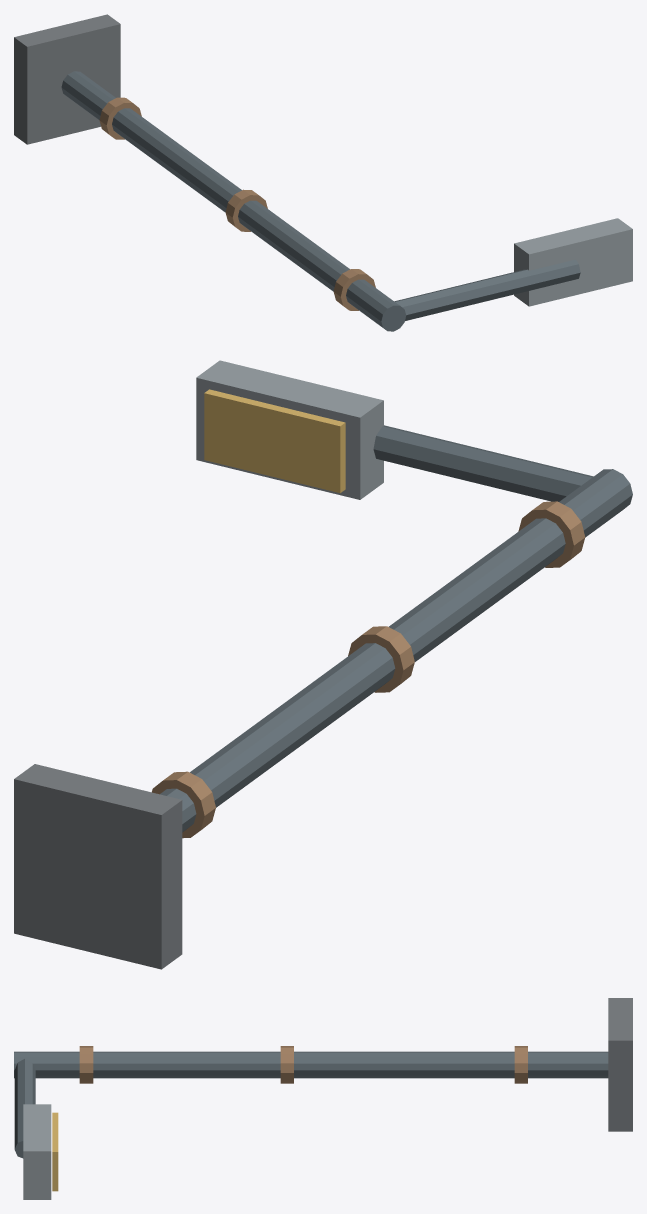
Rendered from powerquest_streetlight.glb.
3 renders of one model, top to bottom at view 1: azimuth 30°, elevation 25°; view 2: azimuth 150°, elevation 25°; view 3: azimuth 270°, elevation 25°, orthographic. The views are drawn at different scales.
Visible parts, largest first — view 1: streetlight_001, streetlight_000, streetlight_003, streetlight_002, streetlight_005, streetlight_006, streetlight_007; view 2: streetlight_000, streetlight_001, streetlight_004, streetlight_003, streetlight_002, streetlight_006, streetlight_007, streetlight_005; view 3: streetlight_001, streetlight_000, streetlight_003, streetlight_002, streetlight_007, streetlight_004, streetlight_005, streetlight_006.
Part boxes in pixels (x1,y1,x2,y2): streetlight_001: (61,71,406,331); streetlight_000: (14,14,120,144); streetlight_003: (514,218,632,306); streetlight_002: (394,259,580,320); streetlight_005: (99,97,141,139); streetlight_006: (225,189,267,231); streetlight_007: (333,269,375,310); streetlight_000: (14,764,182,969); streetlight_001: (160,469,632,832); streetlight_004: (204,389,345,493); streetlight_003: (196,360,383,499); streetlight_002: (373,425,593,501); streetlight_006: (348,626,414,692); streetlight_007: (518,501,585,567); streetlight_005: (152,771,215,838); streetlight_001: (14,1051,608,1078); streetlight_000: (608,998,632,1131); streetlight_003: (23,1104,51,1199); streetlight_002: (14,1058,35,1158); streetlight_007: (79,1046,93,1083); streetlight_004: (52,1112,58,1191); streetlight_005: (514,1046,527,1083); streetlight_006: (280,1046,293,1083).
Bounding box in the file's own units: 2.8 × 0.9 × 5.55.
